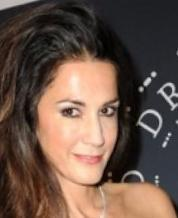face: (58, 97, 118, 164)
